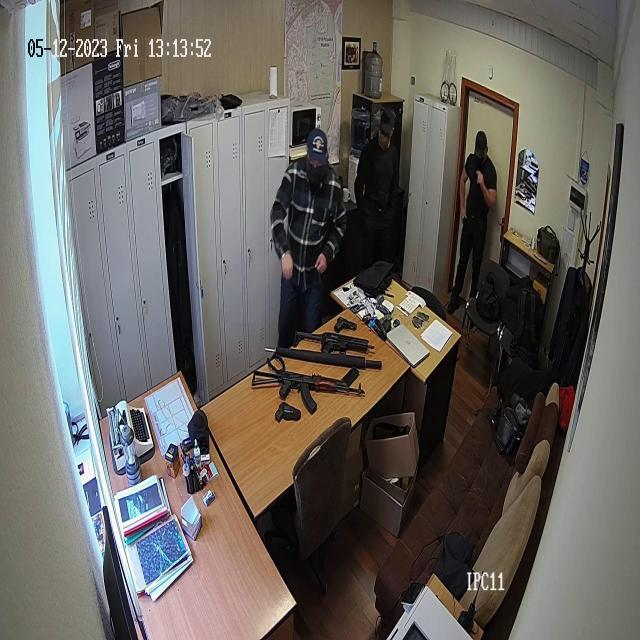pistol: (252, 368, 366, 411), (294, 328, 376, 356), (274, 398, 302, 424), (333, 314, 358, 334)
